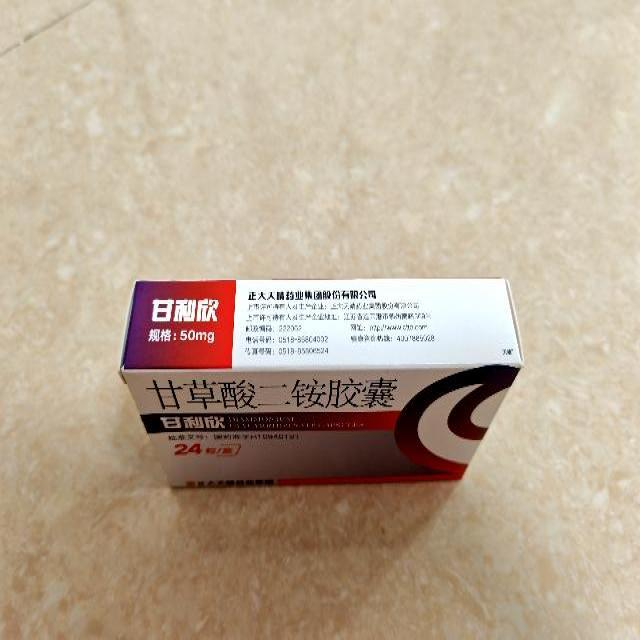box: (120, 276, 522, 492)
